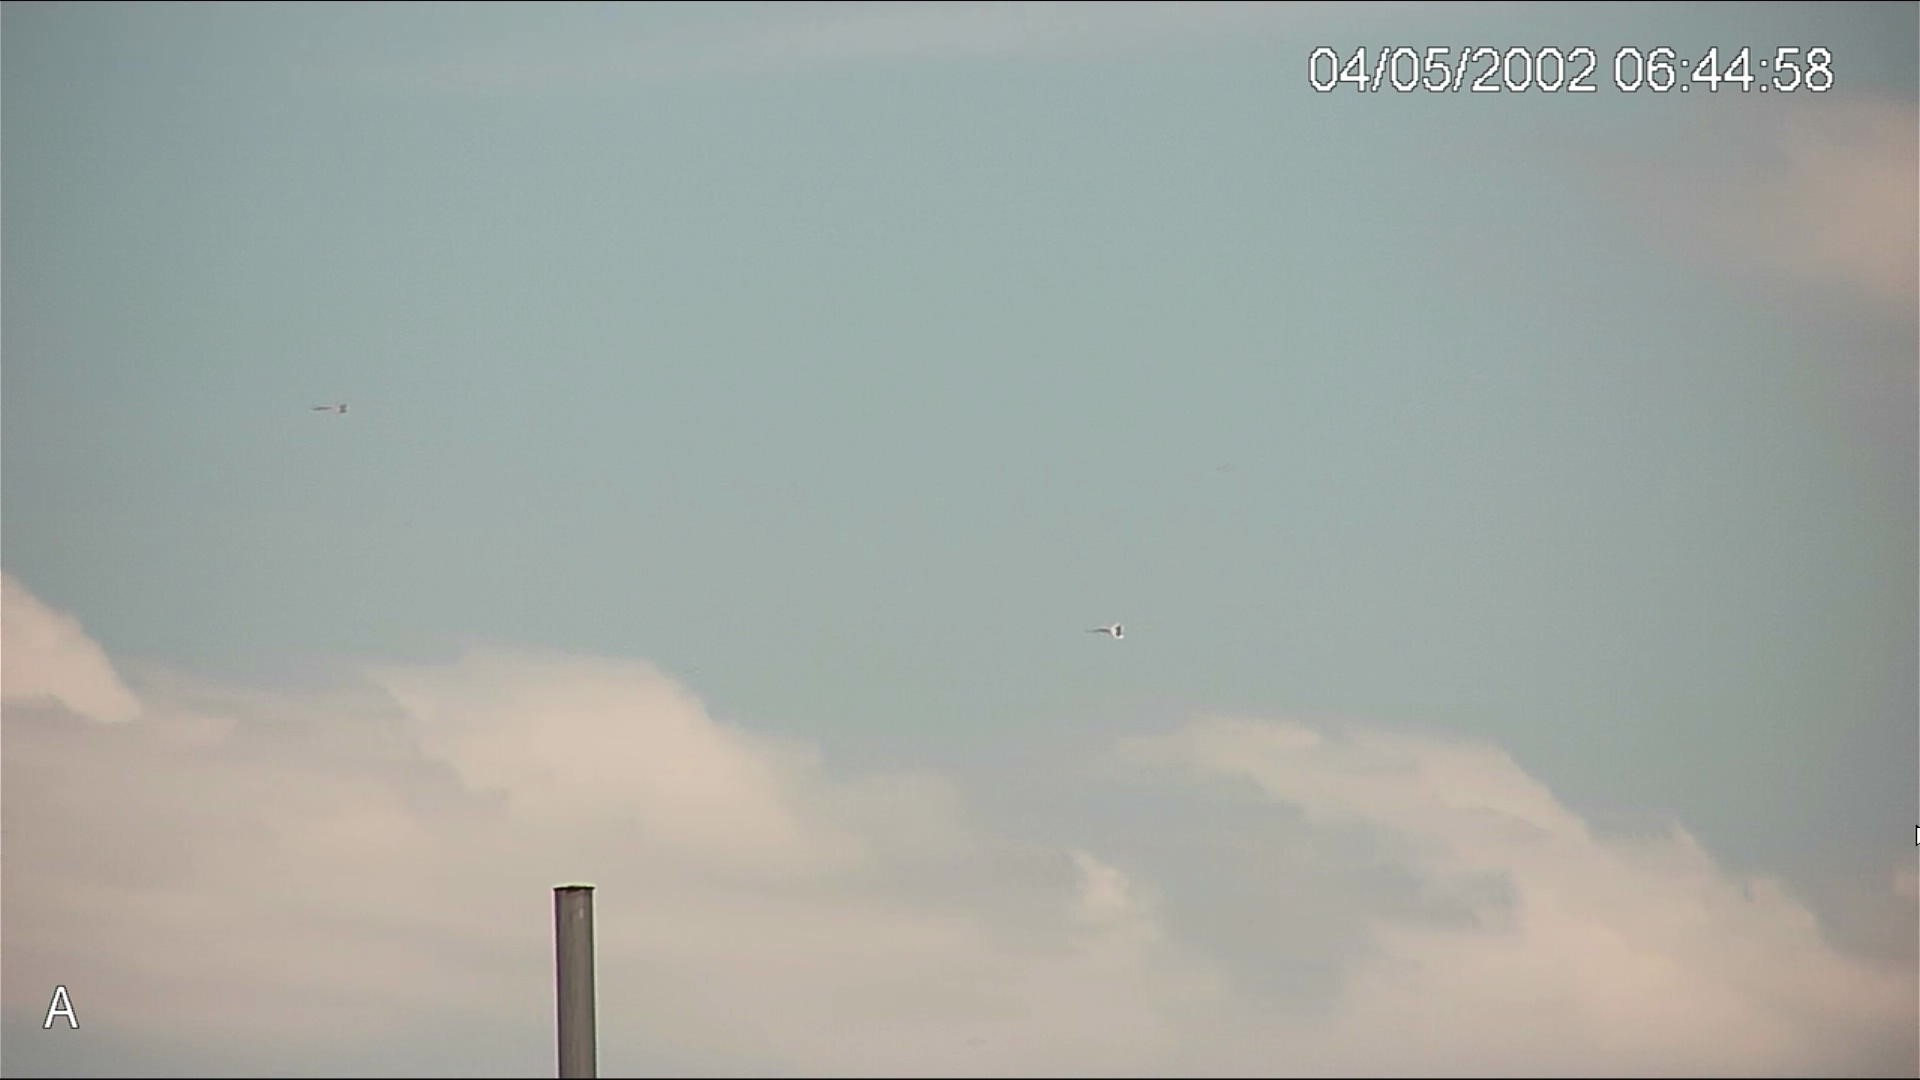SU_30: (305, 400, 353, 411), (1085, 624, 1126, 637)
